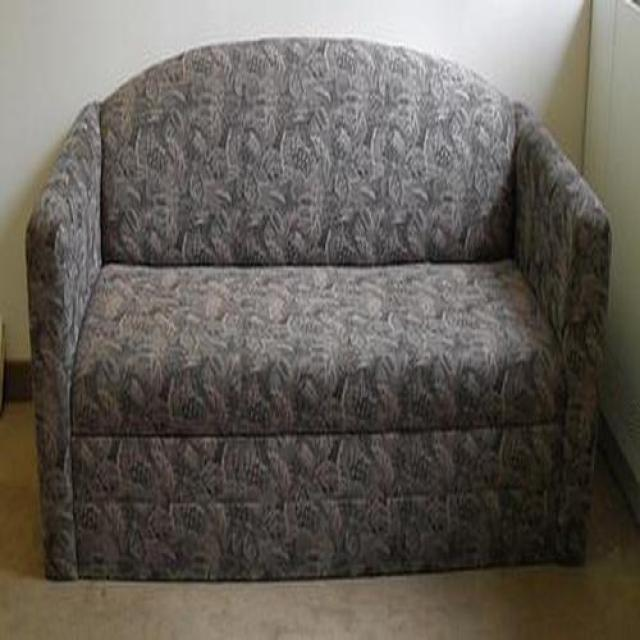sofa: (23, 37, 612, 588)
